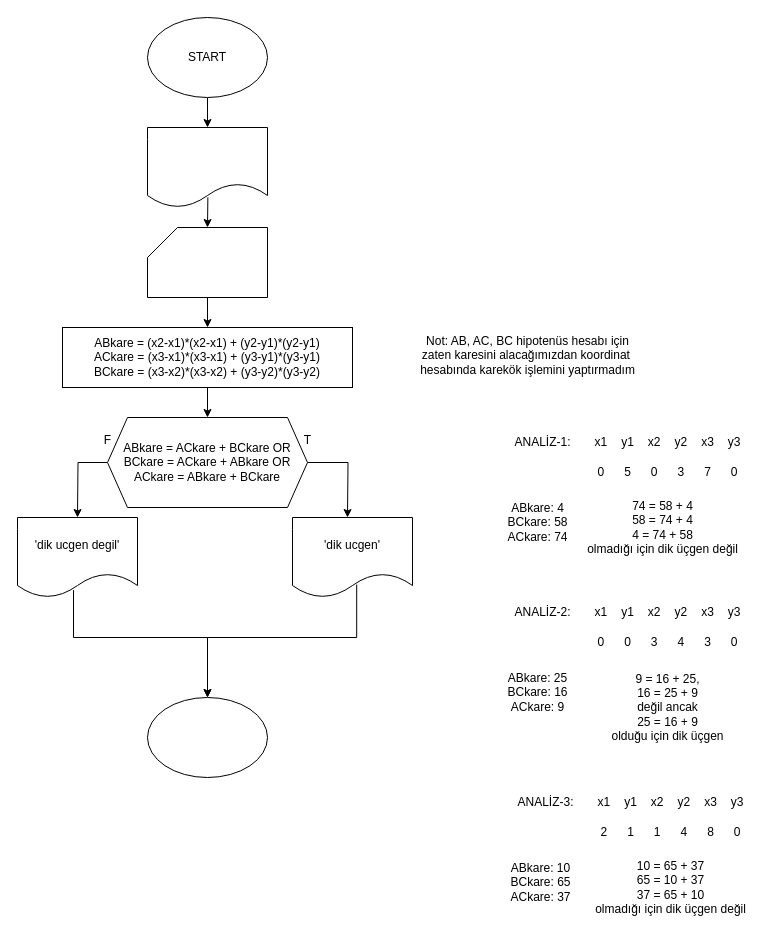
The diagram is 772 pixels wide and 940 high, and some of its shapes have lost their labels. The box of each missing label's shape, as (x1, y1, x2, y2) in pixels:
'x1, y1, x2, y2, x3, y3 olmak uzere uc noktanın koordinatini giriniz': (146, 126, 268, 208)
STOP: (146, 696, 268, 778)
x1, y1, x2, y2, x3, y3: (146, 226, 268, 298)
